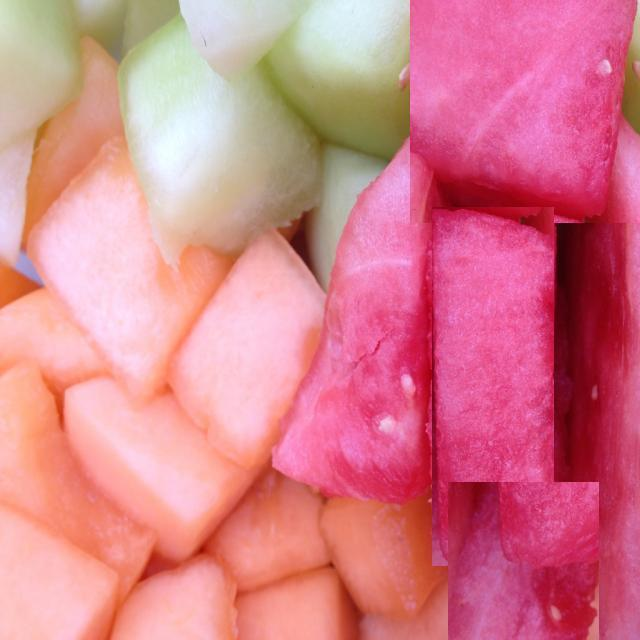Watermelon: (273, 104, 451, 504), (410, 0, 640, 223), (432, 207, 554, 566), (562, 152, 640, 640), (448, 482, 599, 640)
